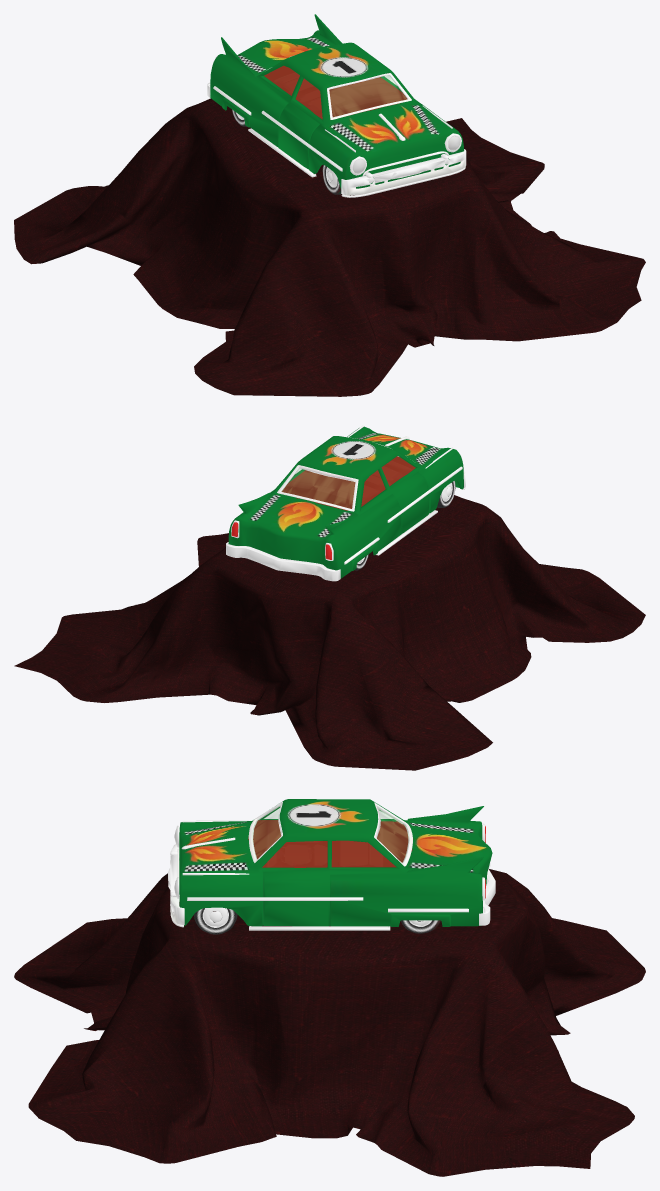
The model's file is spielzeugauto.gltf.
3 renders of one model, top to bottom at view 1: azimuth 30°, elevation 25°; view 2: azimuth 150°, elevation 25°; view 3: azimuth 270°, elevation 25°, orthographic. The views are drawn at different scales.
Visible parts, largest first — view 1: Fabric, ToyCar, Glass; view 2: Fabric, ToyCar, Glass; view 3: Fabric, ToyCar, Glass.
Part boxes in pixels (x1,y1,x2,y2): Fabric: (14,98,645,396); ToyCar: (207,14,466,197); Glass: (329,75,406,116); Fabric: (14,495,645,770); ToyCar: (226,425,465,581); Glass: (282,469,354,508); Fabric: (14,869,645,1176); ToyCar: (168,799,495,934); Glass: (252,806,409,862).
Bounding box in the file's own units: 0.0734 × 0.0288 × 0.074.
3 materials, 2 textured.
